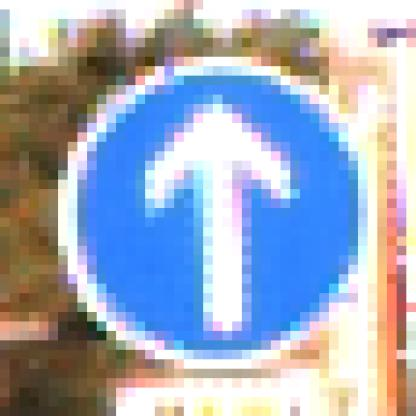AheadOnly: (49, 58, 369, 370)
